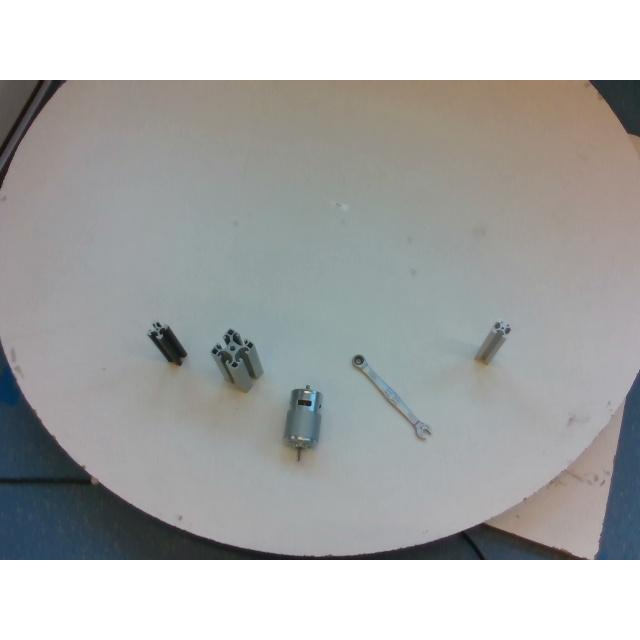F20_20_B: (148, 321, 186, 365)
F20_20_G: (474, 320, 510, 364)
Motor2: (282, 384, 322, 460)
S40_40_G: (210, 329, 262, 391)
Wrench: (352, 354, 432, 440)
